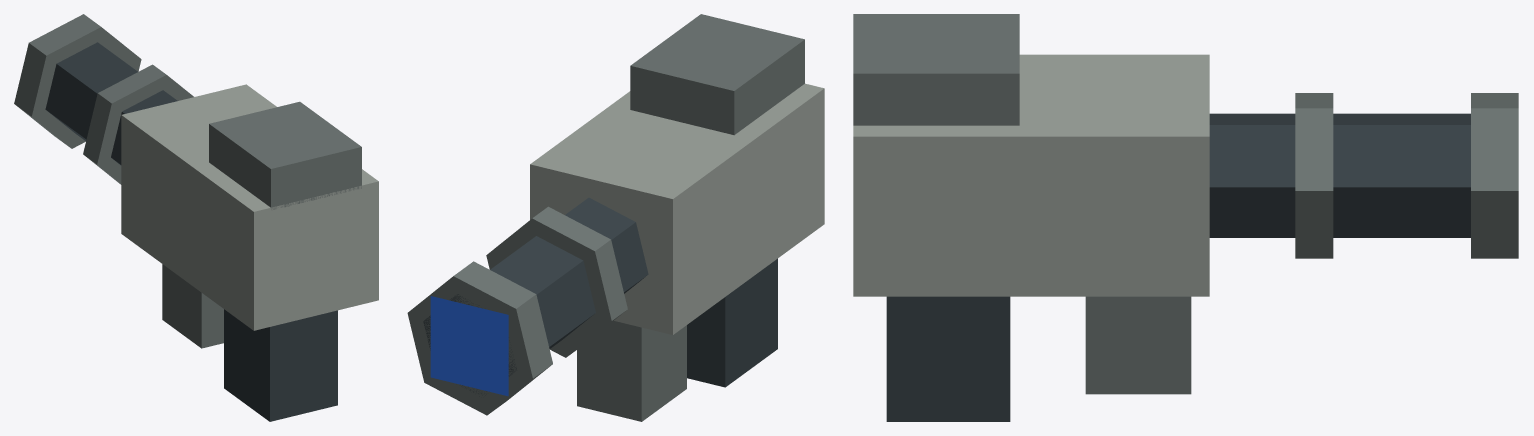
3 renders of one model, left to right at view 1: azimuth 30°, elevation 25°; view 2: azimuth 150°, elevation 25°; view 3: azimuth 270°, elevation 25°, orthographic. The views are drawn at different scales.
Visible parts, largest first — view 1: mount; view 2: mount; view 3: mount.
Part boxes in pixels (x1=…): mount: x1=14, y1=14, x2=378, y2=421; mount: x1=407, y1=14, x2=824, y2=421; mount: x1=853, y1=14, x2=1518, y2=421.
Bounding box in the file's own units: 5.72 × 11.57 × 19.63.
